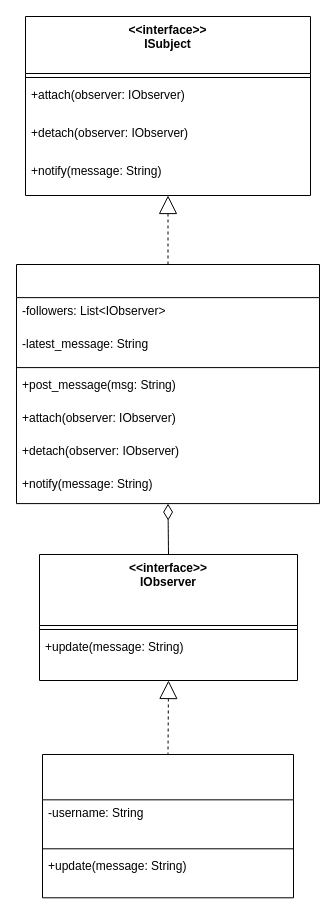
Some shapes in this 336 by 914 pixel diagram are drawn without their labels. The shapes that lost their labels are listed below. From the top down, each one's box as (x1, y1, x2, y2) in pixels, then its label:
(16, 264, 320, 504): ChannelOwner
(42, 754, 294, 898): Follower
